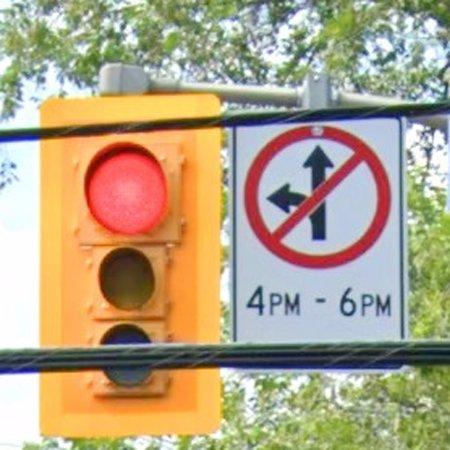traffic lights: (40, 94, 221, 126)
